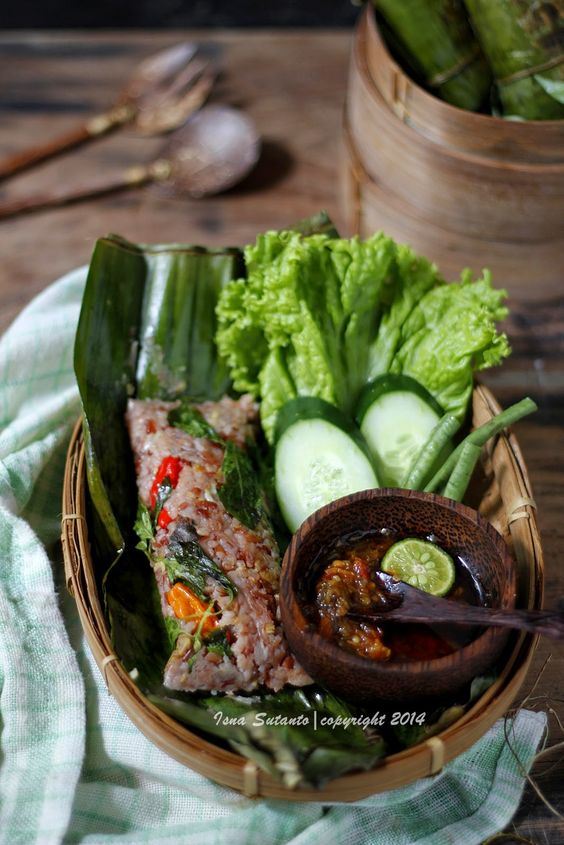Nasi Merah: (146, 389, 307, 716)
